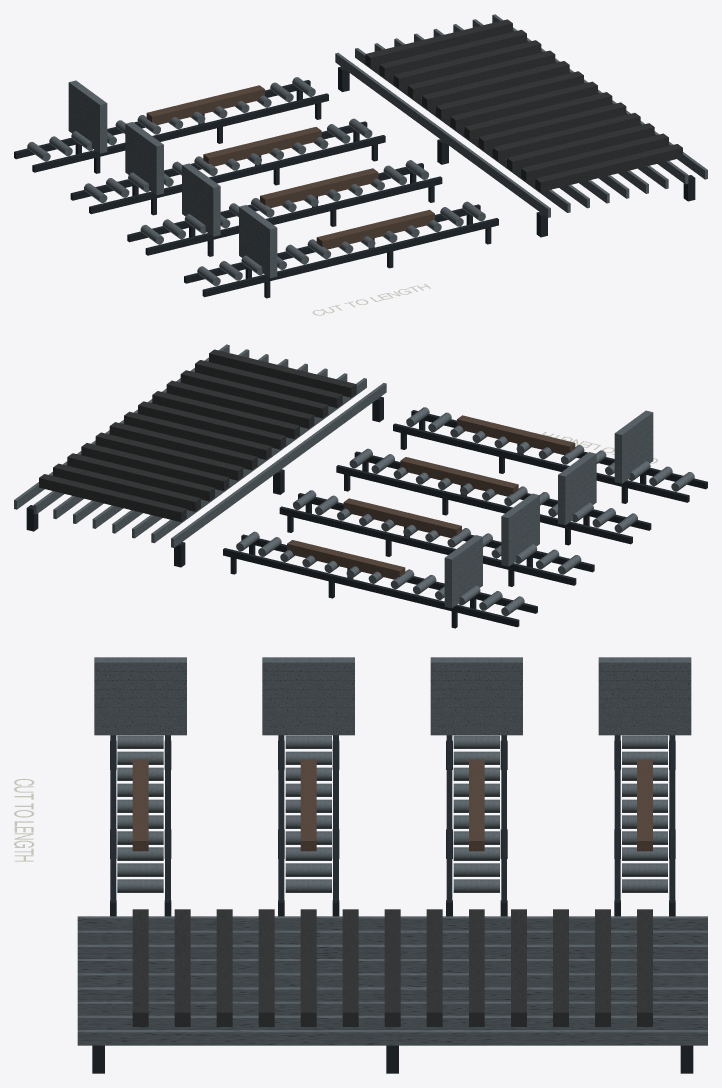
File: steel-finishing.eb636c200c3e.glb
3 views of the same model, one above another, from view 1: azimuth 30°, elevation 25°; view 2: azimuth 150°, elevation 25°; view 3: azimuth 270°, elevation 25° (orthographic). The views are drawn at different scales.
Visible parts, largest first — view 1: structure_charcoal_00130, structure_steel_00126, structure_dark_00127, structure_rust_00129; view 2: structure_charcoal_00130, structure_steel_00126, structure_dark_00127, structure_rust_00129; view 3: structure_steel_00126, structure_charcoal_00130, structure_dark_00127, structure_rust_00129, structure_white_00131.
Part boxes in pixels (box(x1,y1,x2,y2)): structure_charcoal_00130: box(365, 19, 682, 191); structure_steel_00126: box(27, 14, 707, 285); structure_dark_00127: box(14, 66, 695, 298); structure_rust_00129: box(146, 85, 434, 249); structure_charcoal_00130: box(39, 349, 356, 522); structure_steel_00126: box(14, 344, 694, 616); structure_dark_00127: box(26, 396, 707, 628); structure_rust_00129: box(287, 415, 575, 579); structure_steel_00126: box(77, 657, 707, 1045); structure_charcoal_00130: box(132, 909, 652, 1026); structure_dark_00127: box(92, 735, 693, 1073); structure_rust_00129: box(132, 759, 652, 851); structure_white_00131: box(14, 778, 34, 861).
Size of the model in its own units: 20.06 by 2.85 by 16.51.
Materials: 6 (5 with a texture image).
